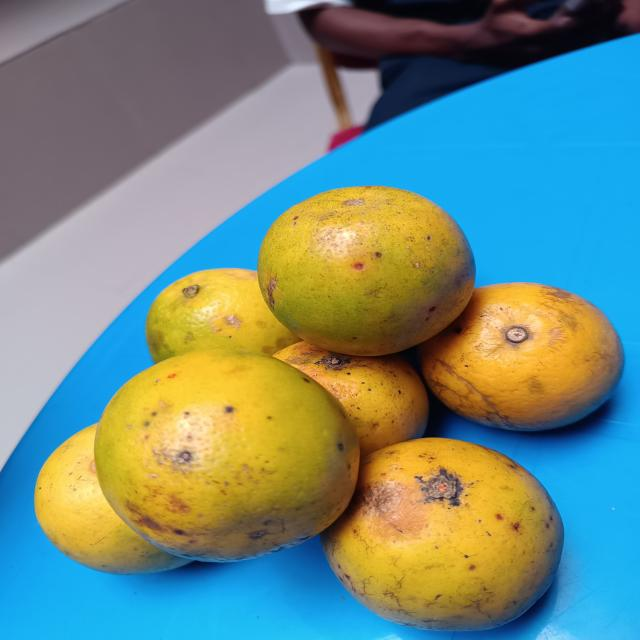Ripe orange: (85, 356, 358, 554), (333, 432, 580, 630), (247, 171, 480, 363), (390, 275, 623, 443), (23, 429, 214, 579), (124, 267, 311, 362)
